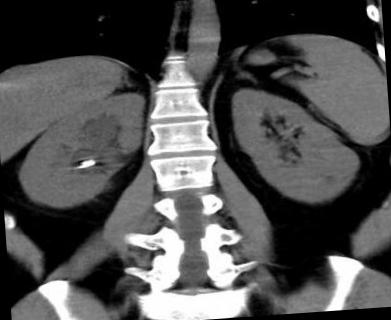Tas_Var: (76, 159, 97, 170), (80, 160, 88, 165)
